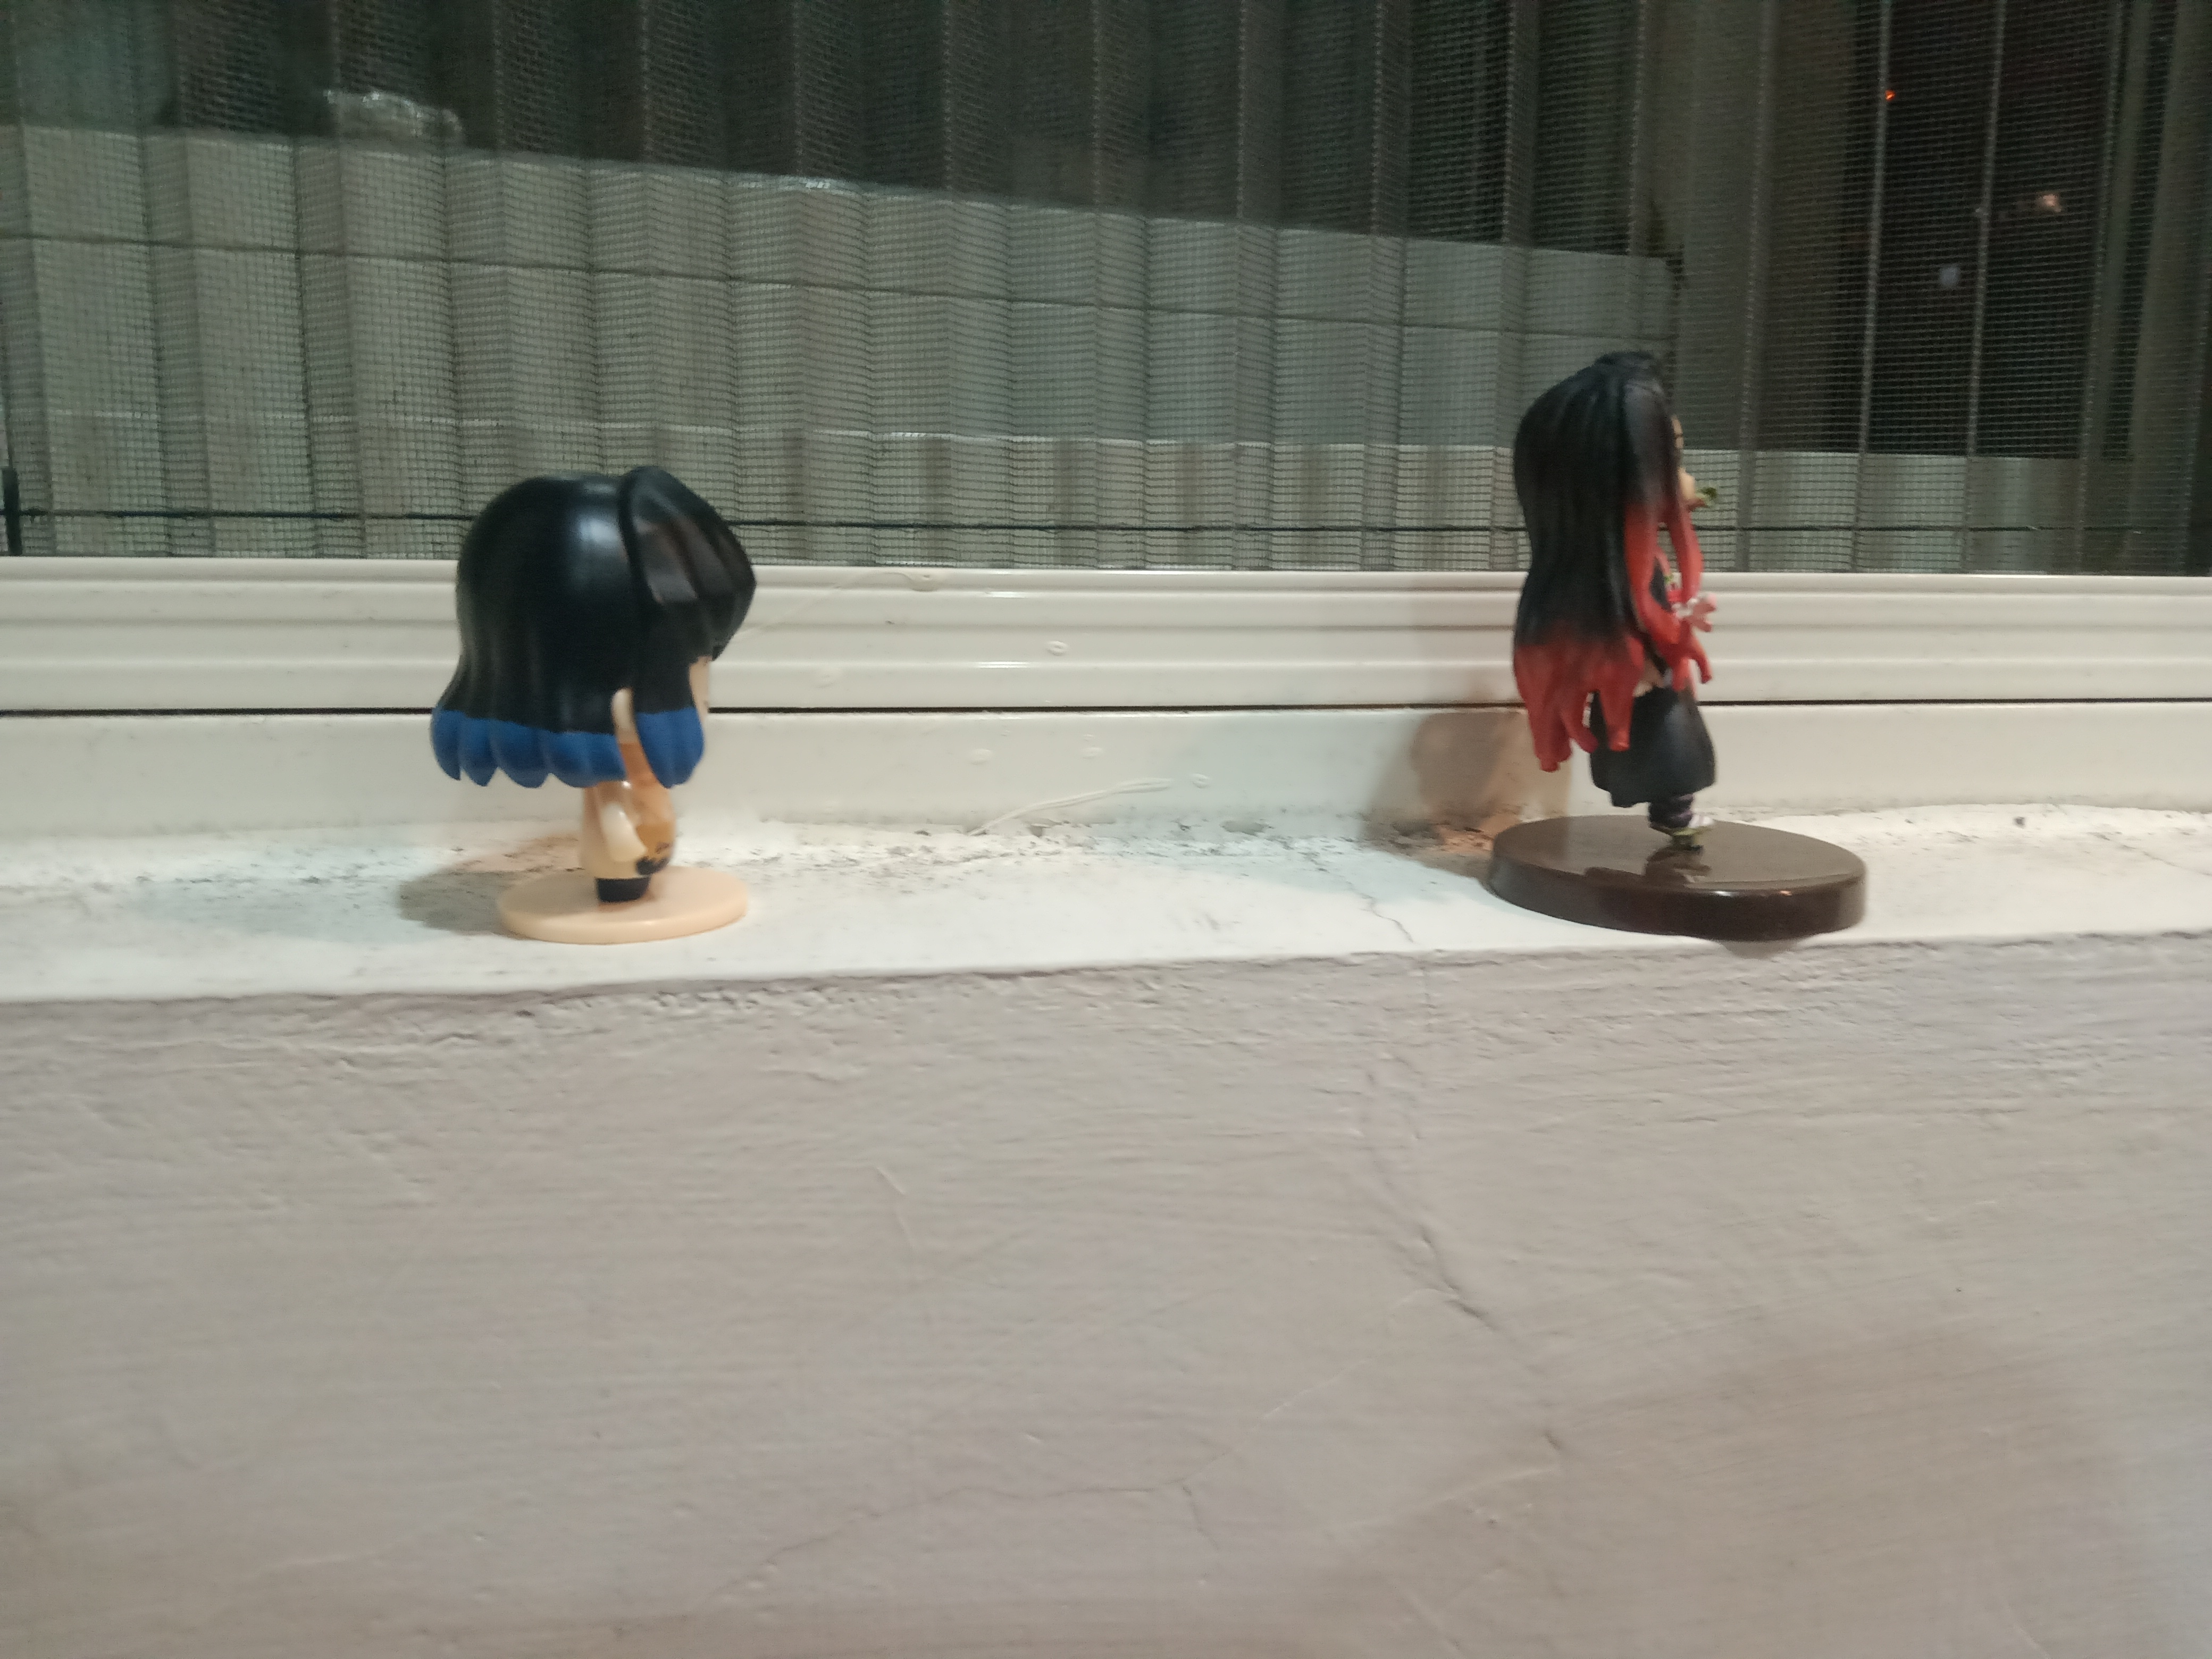Inosuke: (397, 439, 768, 962)
Nezuko: (1477, 336, 1879, 950)
